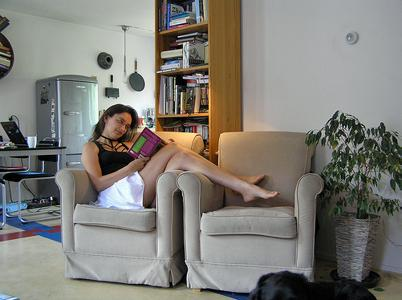person: (81, 103, 280, 212)
